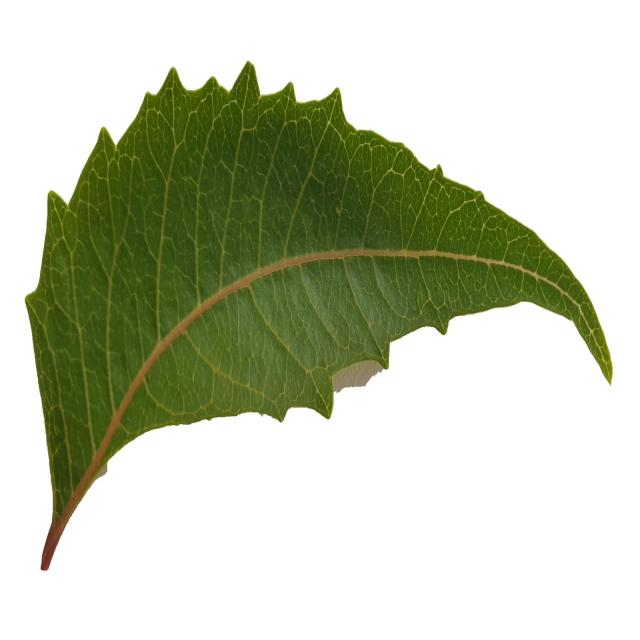Medicinal-Neem: (22, 57, 612, 571)
